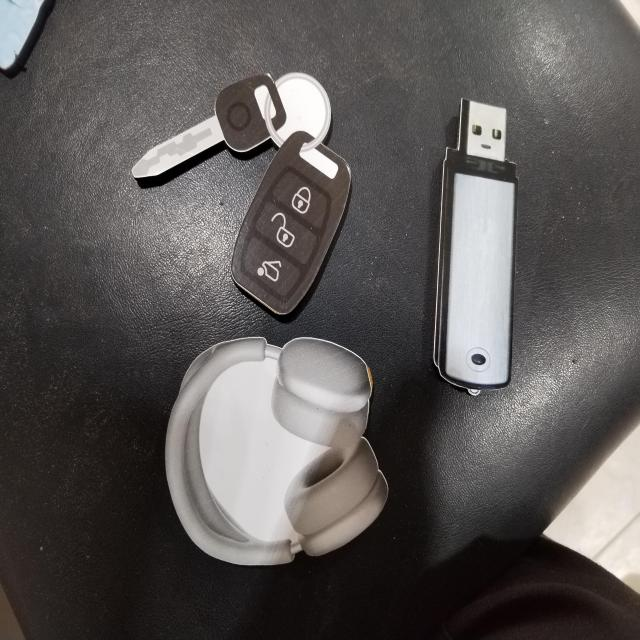Other Objects: (131, 0, 389, 337), (150, 307, 395, 589), (432, 99, 520, 396)
